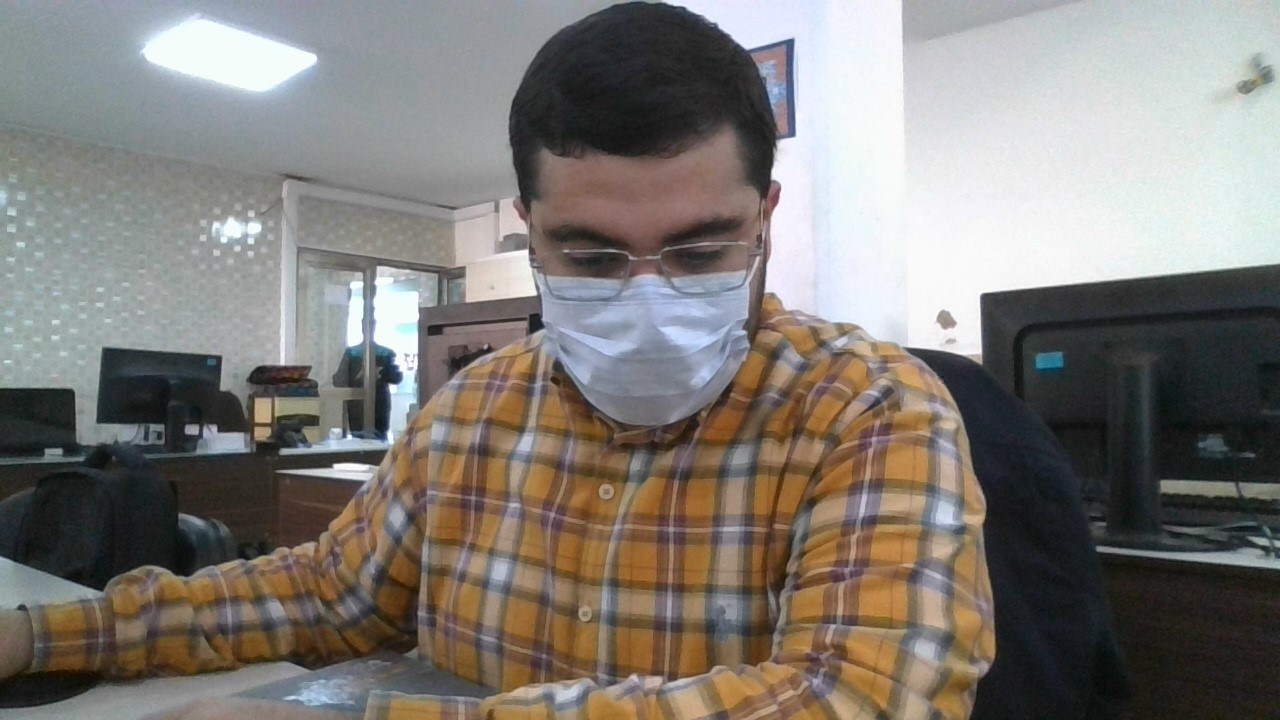Mask: (532, 268, 758, 428)
